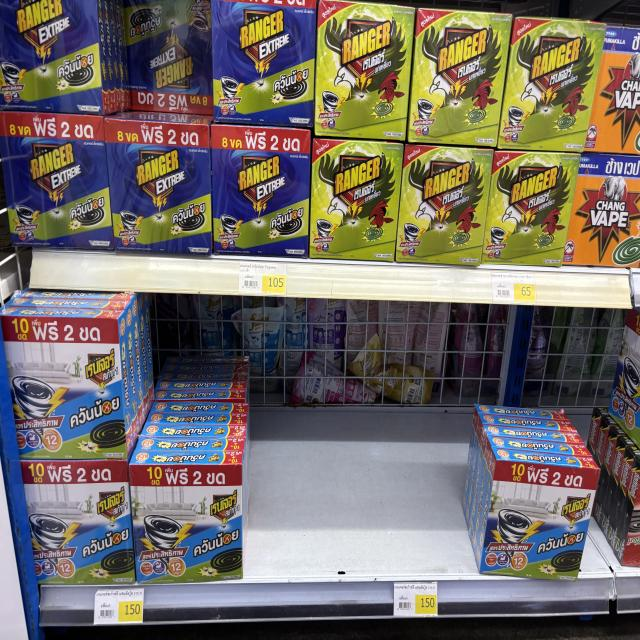empty_shelf: (247, 298, 478, 578), (118, 294, 248, 462), (483, 303, 600, 467), (101, 0, 211, 123)
